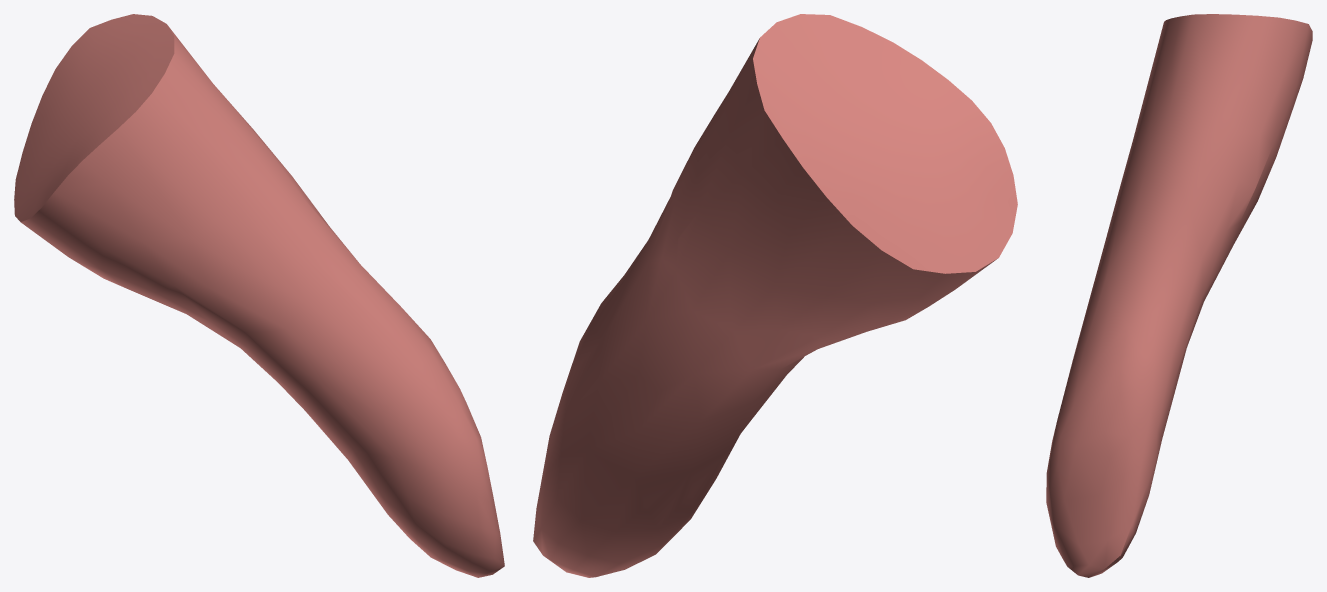
File: fma39268-f_mm1933m.glb
3 renders of one model, left to right at view 1: azimuth 30°, elevation 25°; view 2: azimuth 150°, elevation 25°; view 3: azimuth 270°, elevation 25°, orthographic. The views are drawn at different scales.
Visible parts, largest first — view 1: FMA39268-F_MM1933M; view 2: FMA39268-F_MM1933M; view 3: FMA39268-F_MM1933M.
Part boxes in pixels (left/top/right/bottom): FMA39268-F_MM1933M: left=14, top=14, right=504, bottom=577; FMA39268-F_MM1933M: left=533, top=14, right=1017, bottom=577; FMA39268-F_MM1933M: left=1046, top=14, right=1312, bottom=577.
Size of the model in its own units: 0.00886 by 0.0111 by 0.0058.
